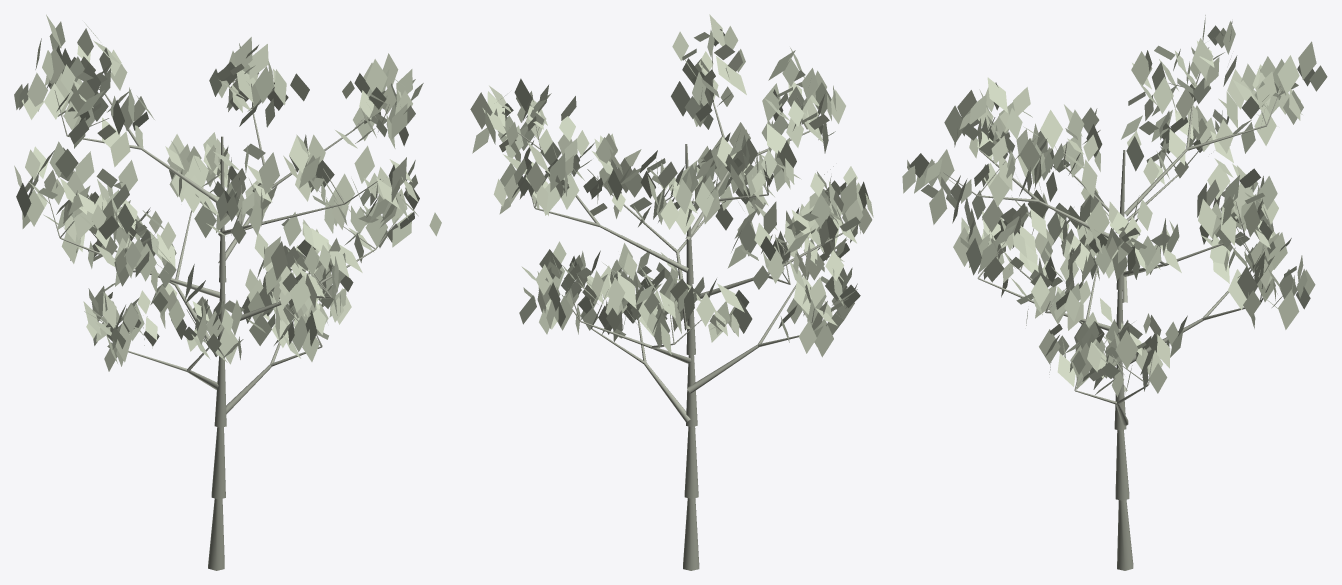
Rendered from sage-tree-a.glb.
3 views of the same model, side by side, from view 1: azimuth 30°, elevation 25°; view 2: azimuth 150°, elevation 25°; view 3: azimuth 270°, elevation 25° (orthographic). The views are drawn at different scales.
Visible parts, largest first — view 1: sage-tree-a; view 2: sage-tree-a; view 3: sage-tree-a.
Part boxes in pixels (x1,y1,x2,y2): sage-tree-a: (14, 14, 441, 570); sage-tree-a: (470, 14, 873, 570); sage-tree-a: (902, 15, 1327, 570).
Bounding box in the file's own units: 4378 × 5803 × 4515.
